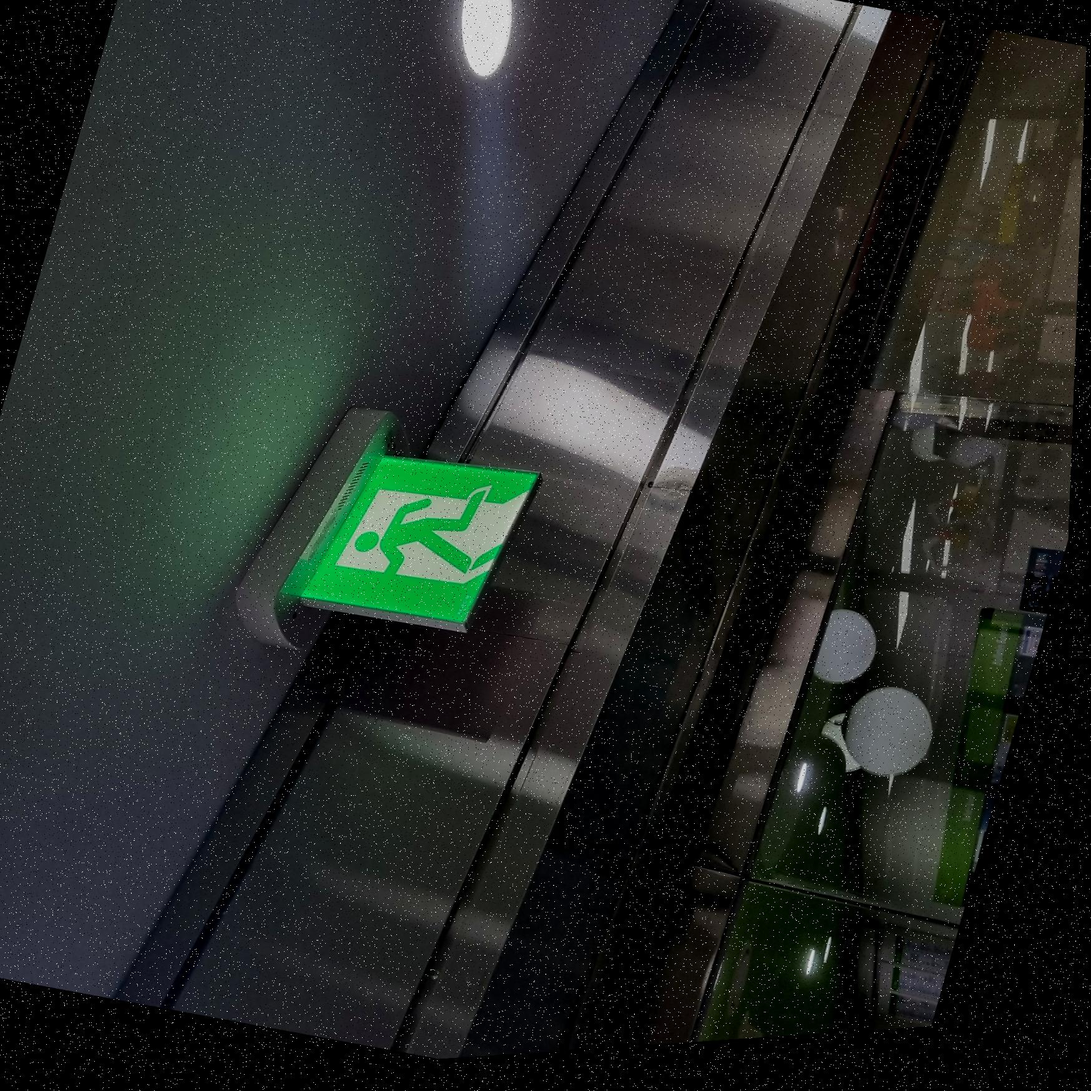emergency_exit: (274, 448, 542, 635)
